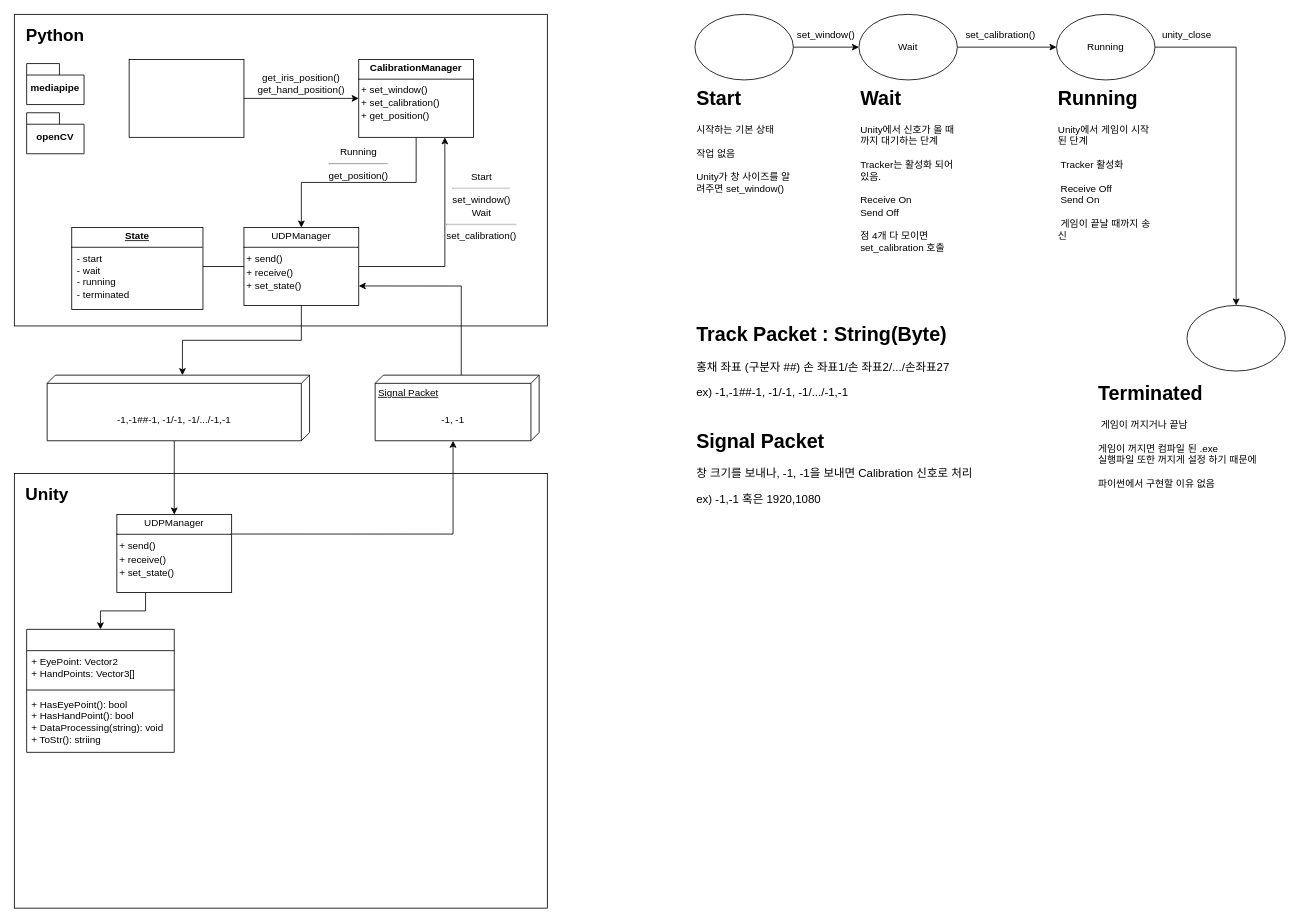
Some shapes in this 1307 by 923 pixel diagram are drawn without their labels. Each missing label, with the box of its shape:
FaceLandMark: (26, 629, 174, 752)
Start: (694, 14, 793, 80)
Terminated: (1186, 305, 1285, 371)
Track Packet: (46, 374, 310, 441)
Tracker + get_iris_position() + get_hand_position(): (128, 59, 244, 137)
